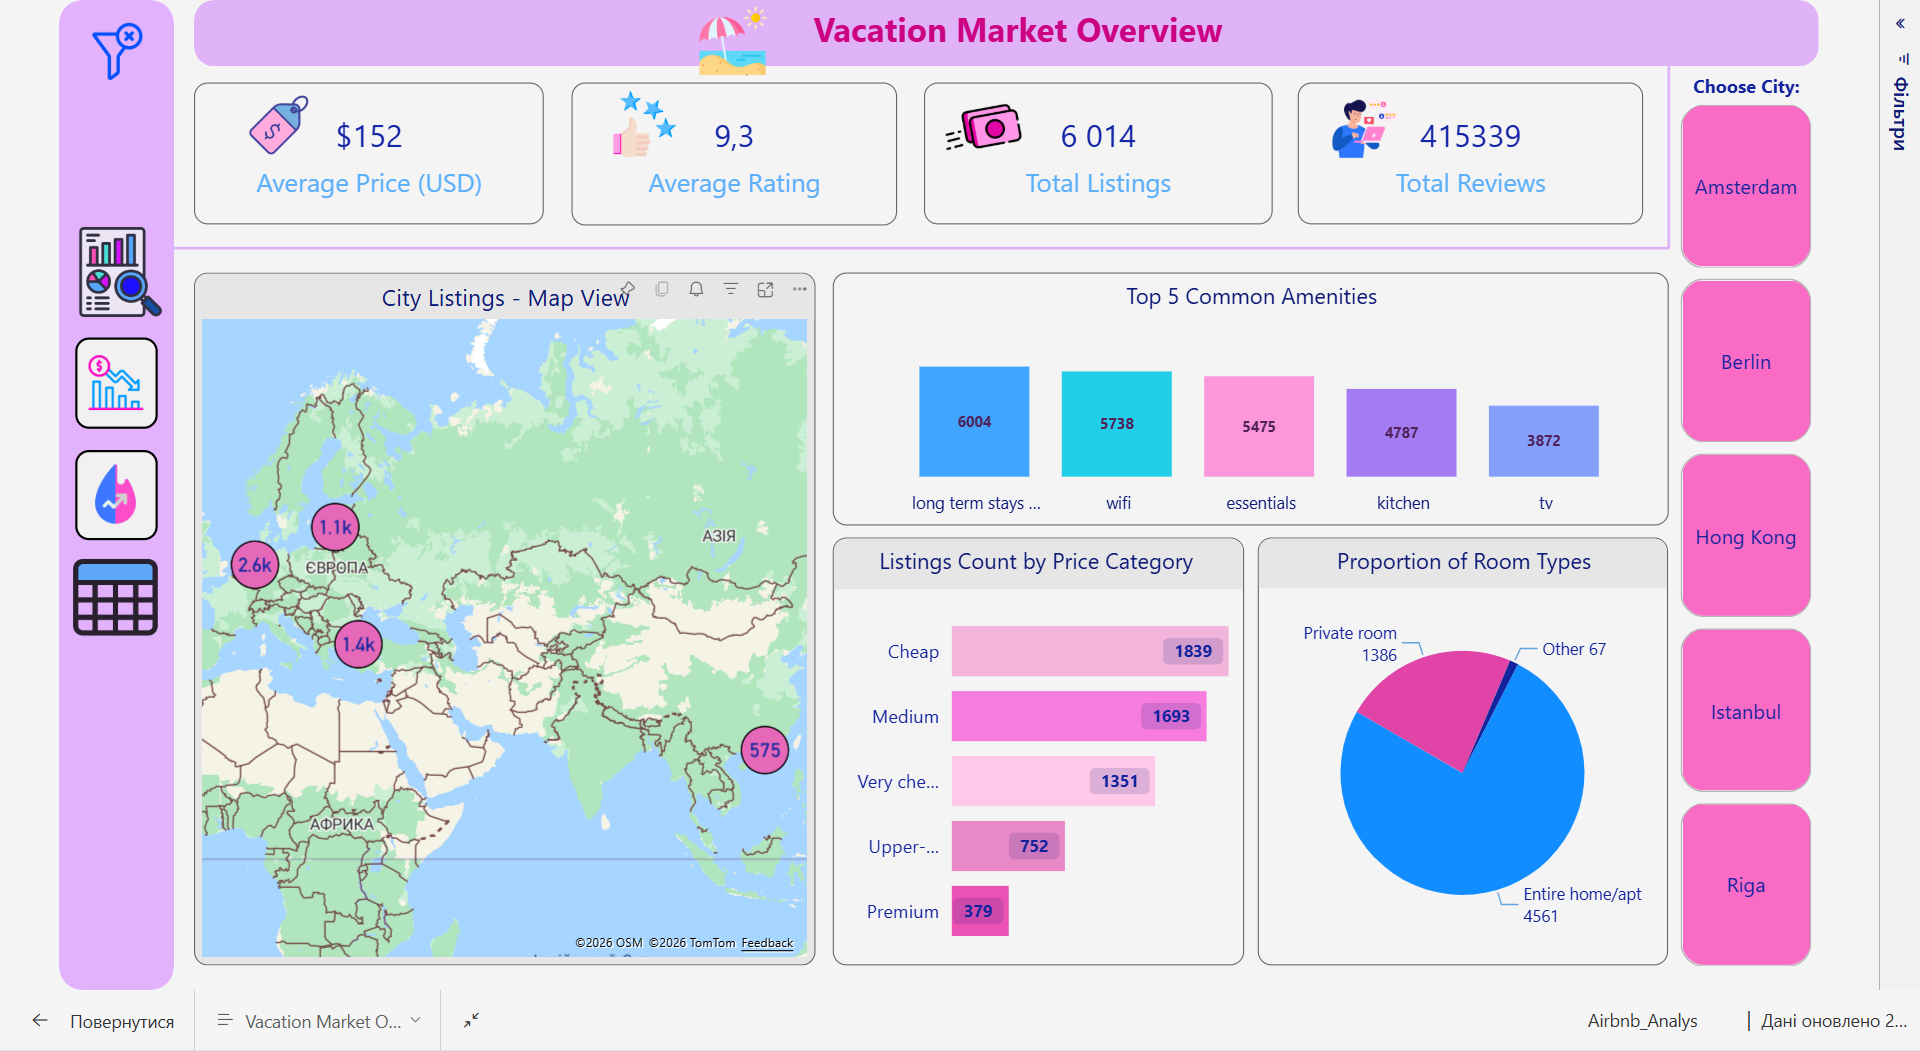

This screenshot's page, from the dashboard's own definition file:
{"tool":"powerbi","page":{"name":"Vacation Market Overview","canvas":[1280,720],"ordinal":0},"visuals":[{"type":"shape","box":[1128.9,47.8,83.3,132.2],"z":0},{"type":"card","fields":{"Values":["_measures.AveragePrice"]},"box":[98,60,254.4,102.9],"z":0,"group":"g1"},{"type":"card","fields":{"Values":["_measures.AvgScoreRating"]},"box":[372.4,59.9,236.7,104],"z":1000,"group":"g1"},{"type":"shape","box":[83.3,105.6,1087.8,150],"z":1000},{"type":"shape","box":[98.3,0,1181.7,48.3],"z":2000},{"type":"card","fields":{"Values":["_measures.ListingsCount"]},"box":[629.1,60,253.3,102.9],"z":2000,"group":"g1"},{"type":"shape","box":[0,0,83.6,720],"z":3000},{"type":"card","fields":{"Values":["_measures.NumberOfReviews"]},"box":[901.2,59.9,251.4,103],"z":3000,"group":"g1"},{"type":"advancedSlicerVisual","title":"Choose City:","fields":{"Values":["Listings5City.City"]},"box":[1174.4,47.8,105.6,661.1],"z":4000},{"type":"group","id":"g1","title":"Group 1","box":[98,59.9,1054.5,104],"z":5000},{"type":"textbox","box":[470,0,455,47.5],"z":6000},{"type":"azureMap","title":"City Listings - Map View","fields":{"Y":["Listings5City.latitude"],"X":["Listings5City.longitude"],"Size":["_measures.AveragePrice"]},"box":[98,198,452,504],"z":7000},{"type":"image","box":[115,61.2,88.8,60],"z":8000},{"type":"image","box":[382.2,60,87.8,61.1],"z":9000},{"type":"image","box":[640,60,65,65],"z":10000},{"type":"image","box":[912.2,63.3,75.6,60],"z":11000},{"type":"pieChart","title":"Proportion of Room Types","fields":{"Y":["_measures.ListingsCount"],"Category":["Listings5City.RoomType(Grouped)"]},"box":[872.1,390.7,298.6,311.4],"z":12000},{"type":"clusteredColumnChart","title":"Top 5 Common Amenities","fields":{"Category":["ListingAmenities.Amenities"],"Y":["_measures.CountofAmenities"]},"box":[562.9,197.9,607.9,184.3],"z":13000},{"type":"clusteredBarChart","title":"Listings Count by Price Category","fields":{"Category":["Listings5City.PriceCategory"],"Y":["_measures.ListingsCount"]},"box":[562.9,390.7,299.3,311.4],"z":14000},{"type":"image","box":[7.1,12.1,70.7,51.4],"z":15000},{"type":"image","box":[11.7,245,60,66.7],"z":16000},{"type":"image","box":[11.5,326.9,60,65.4],"z":17000},{"type":"image","box":[5.3,401.3,71.3,72],"z":18000},{"type":"image","box":[6.7,151.7,76.7,91.7],"z":19000},{"type":"image","box":[411.7,0,156.7,60],"z":20000}]}

Visuals, with their boxes on the page's 1280x720 design canvas (x1, y1, x2, y2). These are canvas units, not pixel positions in the 1920x1051 screenshot, which may show the page scaled, cropped or inside an application window:
shape: BBox(1129, 48, 1212, 180)
card - _measures.AveragePrice: BBox(98, 60, 352, 163)
card - _measures.AvgScoreRating: BBox(372, 60, 609, 164)
shape: BBox(83, 106, 1171, 256)
shape: BBox(98, 0, 1280, 48)
card - _measures.ListingsCount: BBox(629, 60, 882, 163)
shape: BBox(0, 0, 84, 720)
card - _measures.NumberOfReviews: BBox(901, 60, 1153, 163)
"Choose City:" advancedSlicerVisual: BBox(1174, 48, 1280, 709)
"Group 1" group: BBox(98, 60, 1152, 164)
textbox: BBox(470, 0, 925, 48)
"City Listings - Map View" azureMap: BBox(98, 198, 550, 702)
image: BBox(115, 61, 204, 121)
image: BBox(382, 60, 470, 121)
image: BBox(640, 60, 705, 125)
image: BBox(912, 63, 988, 123)
"Proportion of Room Types" pieChart: BBox(872, 391, 1171, 702)
"Top 5 Common Amenities" clusteredColumnChart: BBox(563, 198, 1171, 382)
"Listings Count by Price Category" clusteredBarChart: BBox(563, 391, 862, 702)
image: BBox(7, 12, 78, 64)
image: BBox(12, 245, 72, 312)
image: BBox(12, 327, 72, 392)
image: BBox(5, 401, 77, 473)
image: BBox(7, 152, 83, 243)
image: BBox(412, 0, 568, 60)
